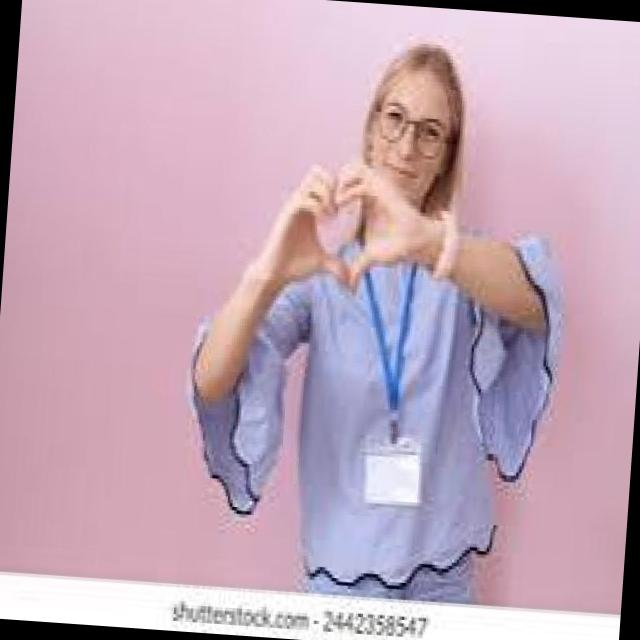id_card: (339, 236, 444, 508)
